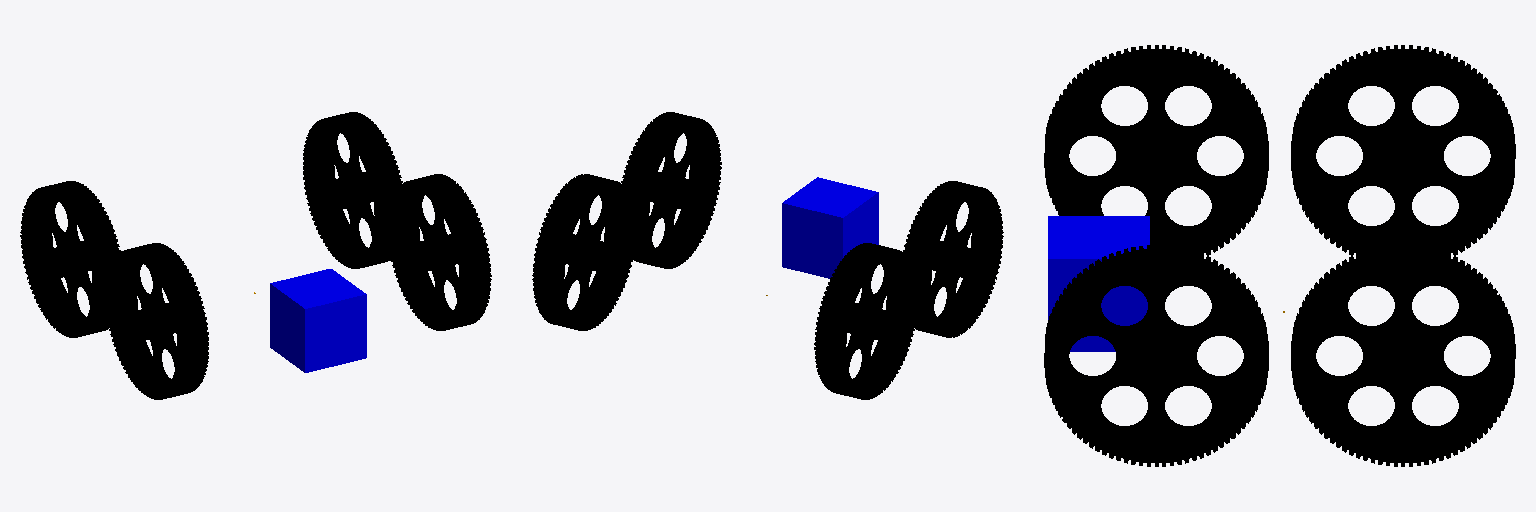
The robot description file, URDF, robot "Robot_Arm":
<?xml version="1.0" ?>
<!-- =================================================================================== -->
<!-- |    This document was autogenerated by xacro from 01-diff_drive.urdf.xacro       | -->
<!-- |    EDITING THIS FILE BY HAND IS NOT RECOMMENDED                                 | -->
<!-- =================================================================================== -->
<robot name="Robot_Arm" xmlns:xacro="http://www.ros.org/wiki/xacro">
  <!-- /////////////////////////////////////////////////////////////////-->
  <!-- Include materials-->
  <material name="Black">
    <color rgba="0.0 0.0 0.0 1.0"/>
  </material>
  <material name="Red">
    <color rgba="0.8 0.0 0.0 1.0"/>
  </material>
  <material name="White">
    <color rgba="1.0 1.0 1.0 1.0"/>
  </material>
  <material name="Blue">
    <color rgba="0.0 0.0 1.0 1.0"/>
  </material>
  <material name="Green">
    <color rgba="0.0 1.0 0.0 1.0"/>
  </material>
  <!-- /////////////////////////////////////////////////////-->
  <!-- constants -->
  <!-- chassis property -->
  <!-- wheel property -->
  <!-- /////////////////////////////////////////////////////-->
  <!-- ///////////////////////////////////////////////////-->
  <!-- ////////////////////////////////////////////////////-->
  <!--transmission block-->
  <!-- //////////////////////////////////////////////////// -->
  <link name="base_foot">
    <visual>
      <origin rpy="0 0 0" xyz="0 0 0"/>
      <geometry>
        <box size="0.001 0.001 0.001"/>
      </geometry>
    </visual>
  </link>
  <joint name="base" type="fixed">
    <parent link="base_foot"/>
    <child link="chassis"/>
    <origin rpy="0 0 0" xyz="0 0 0.015"/>
  </joint>
  <gazebo reference="base_foot">
    <turnGravityOff>false</turnGravityOff>
  </gazebo>
  <!-- ////////////////////////////////////////////////////////////-->
  <!-- chassis-->
  <link name="chassis">
    <visual>
      <origin rpy="-1.57 0 0" xyz="0 0 0"/>
      <geometry>
        <mesh filename="package://robot_arm/meshes/base assembly.dae"/>
      </geometry>
    </visual>
    <collision>
      <origin rpy="-1.57 0 0" xyz="0 0 0"/>
      <geometry>
        <mesh filename="package://robot_arm/meshes/base assembly.dae"/>
      </geometry>
    </collision>
    <inertial>
      <mass value="5.0"/>
      <inertia ixx="1.0" ixy="0.0" ixz="0.0" iyy="1.0" iyz="0.0" izz="1.0"/>
    </inertial>
  </link>
  <gazebo reference="chassis">
    <turnGravityOff>false</turnGravityOff>
  </gazebo>
  <!-- ///////////////////      Wheels      ///////////////////////   -->
  <link name="right_front_wheel">
    <visual>
      <origin rpy="0 1.57 0" xyz="0 0 0"/>
      <geometry>
        <cylinder length="0.022" radius="0.011"/>
      </geometry>
      <material name="Black"/>
    </visual>
    <collision>
      <origin rpy="0 1.57 0" xyz="0 0 0"/>
      <geometry>
        <cylinder length="0.022" radius="0.011"/>
      </geometry>
    </collision>
    <inertial>
      <mass value="0.2"/>
      <inertia ixx="2.48722222222e-05" ixy="0.0" ixz="0.0" iyy="2.48722222222e-05" iyz="0.0" izz="3.3611111111e-05"/>
    </inertial>
  </link>
  <link name="right_front_wheel1">
    <visual>
      <origin rpy="0  0 1.57" xyz="0 0 0"/>
      <geometry>
        <mesh filename="package://robot_arm/meshes/tyre11.dae"/>
      </geometry>
      <material name="Black"/>
    </visual>
    <collision>
      <origin rpy="0 0 1.57" xyz="0 0 0"/>
      <geometry>
        <mesh filename="package://robot_arm/meshes/tyre11.dae"/>
      </geometry>
    </collision>
    <inertial>
      <mass value="0.2"/>
      <inertia ixx="0.000159316666667" ixy="0.0" ixz="0.0" iyy="0.000159316666667" iyz="0.0" izz="0.0003025"/>
    </inertial>
  </link>
  <gazebo reference="right_front_wheel1">
    <material>Gazebo/Black</material>
    <turnGravityOff>false</turnGravityOff>
  </gazebo>
  <joint name="right_front_wheel_joint1" type="fixed">
    <parent link="right_front_wheel"/>
    <child link="right_front_wheel1"/>
    <origin rpy="0 0 0" xyz="0 0 0"/>
  </joint>
  <gazebo reference="right_front_wheel">
    <mu1 value="200.0"/>
    <mu2 value="100.0"/>
    <kp value="10000000.0"/>
    <kd value="1.0"/>
    <material>Gazebo/Black</material>
  </gazebo>
  <joint name="right_front_wheel_joint" type="continuous">
    <parent link="chassis"/>
    <child link="right_front_wheel"/>
    <origin rpy="0 0 0" xyz="0.115 0.058 0.015"/>
    <axis xyz="1 0 0"/>
    <limit effort="100" velocity="100"/>
    <dynamics damping="0.0" friction="0.0"/>
  </joint>
  <transmission name="right_front_wheel_trans">
    <type>transmission_interface/SimpleTransmission</type>
    <actuator name="right_front_wheel_motor">
      <hardwareInterface>EffortJointInterface</hardwareInterface>
      <mechanicalReduction>1</mechanicalReduction>
    </actuator>
    <joint name="right_front_wheel_joint">
      <hardwareInterface>VelocityJointInterface</hardwareInterface>
    </joint>
  </transmission>
  <link name="right_back_wheel">
    <visual>
      <origin rpy="0 1.57 0" xyz="0 0 0"/>
      <geometry>
        <cylinder length="0.022" radius="0.011"/>
      </geometry>
      <material name="Black"/>
    </visual>
    <collision>
      <origin rpy="0 1.57 0" xyz="0 0 0"/>
      <geometry>
        <cylinder length="0.022" radius="0.011"/>
      </geometry>
    </collision>
    <inertial>
      <mass value="0.2"/>
      <inertia ixx="2.48722222222e-05" ixy="0.0" ixz="0.0" iyy="2.48722222222e-05" iyz="0.0" izz="3.3611111111e-05"/>
    </inertial>
  </link>
  <link name="right_back_wheel1">
    <visual>
      <origin rpy="0  0 1.57" xyz="0 0 0"/>
      <geometry>
        <mesh filename="package://robot_arm/meshes/tyre11.dae"/>
      </geometry>
      <material name="Black"/>
    </visual>
    <collision>
      <origin rpy="0 0 1.57" xyz="0 0 0"/>
      <geometry>
        <mesh filename="package://robot_arm/meshes/tyre11.dae"/>
      </geometry>
    </collision>
    <inertial>
      <mass value="0.2"/>
      <inertia ixx="0.000159316666667" ixy="0.0" ixz="0.0" iyy="0.000159316666667" iyz="0.0" izz="0.0003025"/>
    </inertial>
  </link>
  <gazebo reference="right_back_wheel1">
    <material>Gazebo/Black</material>
    <turnGravityOff>false</turnGravityOff>
  </gazebo>
  <joint name="right_back_wheel_joint1" type="fixed">
    <parent link="right_back_wheel"/>
    <child link="right_back_wheel1"/>
    <origin rpy="0 0 0" xyz="0 0 0"/>
  </joint>
  <gazebo reference="right_back_wheel">
    <mu1 value="200.0"/>
    <mu2 value="100.0"/>
    <kp value="10000000.0"/>
    <kd value="1.0"/>
    <material>Gazebo/Black</material>
  </gazebo>
  <joint name="right_back_wheel_joint" type="continuous">
    <parent link="chassis"/>
    <child link="right_back_wheel"/>
    <origin rpy="0 0 0" xyz="0.115 -0.062 0.015"/>
    <axis xyz="1 0 0"/>
    <limit effort="100" velocity="100"/>
    <dynamics damping="0.0" friction="0.0"/>
  </joint>
  <transmission name="right_back_wheel_trans">
    <type>transmission_interface/SimpleTransmission</type>
    <actuator name="right_back_wheel_motor">
      <hardwareInterface>EffortJointInterface</hardwareInterface>
      <mechanicalReduction>1</mechanicalReduction>
    </actuator>
    <joint name="right_back_wheel_joint">
      <hardwareInterface>VelocityJointInterface</hardwareInterface>
    </joint>
  </transmission>
  <link name="left_front_wheel">
    <visual>
      <origin rpy="0 1.57 0" xyz="0 0 0"/>
      <geometry>
        <cylinder length="0.022" radius="0.011"/>
      </geometry>
      <material name="Black"/>
    </visual>
    <collision>
      <origin rpy="0 1.57 0" xyz="0 0 0"/>
      <geometry>
        <cylinder length="0.022" radius="0.011"/>
      </geometry>
    </collision>
    <inertial>
      <mass value="0.2"/>
      <inertia ixx="2.48722222222e-05" ixy="0.0" ixz="0.0" iyy="2.48722222222e-05" iyz="0.0" izz="3.3611111111e-05"/>
    </inertial>
  </link>
  <link name="left_front_wheel1">
    <visual>
      <origin rpy="0  0 1.57" xyz="0 0 0"/>
      <geometry>
        <mesh filename="package://robot_arm/meshes/tyre11.dae"/>
      </geometry>
      <material name="Black"/>
    </visual>
    <collision>
      <origin rpy="0 0 1.57" xyz="0 0 0"/>
      <geometry>
        <mesh filename="package://robot_arm/meshes/tyre11.dae"/>
      </geometry>
    </collision>
    <inertial>
      <mass value="0.2"/>
      <inertia ixx="0.000159316666667" ixy="0.0" ixz="0.0" iyy="0.000159316666667" iyz="0.0" izz="0.0003025"/>
    </inertial>
  </link>
  <gazebo reference="left_front_wheel1">
    <material>Gazebo/Black</material>
    <turnGravityOff>false</turnGravityOff>
  </gazebo>
  <joint name="left_front_wheel_joint1" type="fixed">
    <parent link="left_front_wheel"/>
    <child link="left_front_wheel1"/>
    <origin rpy="0 0 0" xyz="0 0 0"/>
  </joint>
  <gazebo reference="left_front_wheel">
    <mu1 value="200.0"/>
    <mu2 value="100.0"/>
    <kp value="10000000.0"/>
    <kd value="1.0"/>
    <material>Gazebo/Black</material>
  </gazebo>
  <joint name="left_front_wheel_joint" type="continuous">
    <parent link="chassis"/>
    <child link="left_front_wheel"/>
    <origin rpy="0 0 0" xyz="-0.115 0.058 0.015"/>
    <axis xyz="1 0 0"/>
    <limit effort="100" velocity="100"/>
    <dynamics damping="0.0" friction="0.0"/>
  </joint>
  <transmission name="left_front_wheel_trans">
    <type>transmission_interface/SimpleTransmission</type>
    <actuator name="left_front_wheel_motor">
      <hardwareInterface>EffortJointInterface</hardwareInterface>
      <mechanicalReduction>1</mechanicalReduction>
    </actuator>
    <joint name="left_front_wheel_joint">
      <hardwareInterface>VelocityJointInterface</hardwareInterface>
    </joint>
  </transmission>
  <link name="left_back_wheel">
    <visual>
      <origin rpy="0 1.57 0" xyz="0 0 0"/>
      <geometry>
        <cylinder length="0.022" radius="0.011"/>
      </geometry>
      <material name="Black"/>
    </visual>
    <collision>
      <origin rpy="0 1.57 0" xyz="0 0 0"/>
      <geometry>
        <cylinder length="0.022" radius="0.011"/>
      </geometry>
    </collision>
    <inertial>
      <mass value="0.2"/>
      <inertia ixx="2.48722222222e-05" ixy="0.0" ixz="0.0" iyy="2.48722222222e-05" iyz="0.0" izz="3.3611111111e-05"/>
    </inertial>
  </link>
  <link name="left_back_wheel1">
    <visual>
      <origin rpy="0  0 1.57" xyz="0 0 0"/>
      <geometry>
        <mesh filename="package://robot_arm/meshes/tyre11.dae"/>
      </geometry>
      <material name="Black"/>
    </visual>
    <collision>
      <origin rpy="0 0 1.57" xyz="0 0 0"/>
      <geometry>
        <mesh filename="package://robot_arm/meshes/tyre11.dae"/>
      </geometry>
    </collision>
    <inertial>
      <mass value="0.2"/>
      <inertia ixx="0.000159316666667" ixy="0.0" ixz="0.0" iyy="0.000159316666667" iyz="0.0" izz="0.0003025"/>
    </inertial>
  </link>
  <gazebo reference="left_back_wheel1">
    <material>Gazebo/Black</material>
    <turnGravityOff>false</turnGravityOff>
  </gazebo>
  <joint name="left_back_wheel_joint1" type="fixed">
    <parent link="left_back_wheel"/>
    <child link="left_back_wheel1"/>
    <origin rpy="0 0 0" xyz="0 0 0"/>
  </joint>
  <gazebo reference="left_back_wheel">
    <mu1 value="200.0"/>
    <mu2 value="100.0"/>
    <kp value="10000000.0"/>
    <kd value="1.0"/>
    <material>Gazebo/Black</material>
  </gazebo>
  <joint name="left_back_wheel_joint" type="continuous">
    <parent link="chassis"/>
    <child link="left_back_wheel"/>
    <origin rpy="0 0 0" xyz="-0.115 -0.062 0.015"/>
    <axis xyz="1 0 0"/>
    <limit effort="100" velocity="100"/>
    <dynamics damping="0.0" friction="0.0"/>
  </joint>
  <transmission name="left_back_wheel_trans">
    <type>transmission_interface/SimpleTransmission</type>
    <actuator name="left_back_wheel_motor">
      <hardwareInterface>EffortJointInterface</hardwareInterface>
      <mechanicalReduction>1</mechanicalReduction>
    </actuator>
    <joint name="left_back_wheel_joint">
      <hardwareInterface>VelocityJointInterface</hardwareInterface>
    </joint>
  </transmission>
  <!--///////////////////////////////////////////////////////////////// -->
  <link name="hokuyo_sensor">
    <visual>
      <origin rpy="0 0 0" xyz="0 0 0"/>
      <geometry>
        <box size="0.05 0.05 0.05"/>
      </geometry>
      <material name="Blue"/>
    </visual>
  </link>
  <joint name="hokuyo_joint" type="fixed">
    <origin rpy="0 0 0" xyz="0 -0.09 0"/>
    <parent link="chassis"/>
    <child link="hokuyo_sensor"/>
  </joint>
  <gazebo reference="hokuyo_sensor">
    <material>Gazebo/Blue</material>
    <turnGravityOff>false</turnGravityOff>
    <sensor name="chassis_hokuyo_sensor" type="ray">
      <pose>0.025 0 0 0 0 0</pose>
      <visualize>false</visualize>
      <update_rate>40</update_rate>
      <ray>
        <scan>
          <horizontal>
            <samples>720</samples>
            <resolution>1</resolution>
            <min_angle>-1.57</min_angle>
            <max_angle>1.57</max_angle>
          </horizontal>
        </scan>
        <range>
          <min>0.10</min>
          <max>10.0</max>
          <resolution>0.001</resolution>
        </range>
      </ray>
      <plugin filename="libgazebo_ros_laser.so" name="gazebo_ros_head_hokuyo_controller">
        <topicName>/scan</topicName>
        <frameName>hokuyo_sensor</frameName>
      </plugin>
    </sensor>
  </gazebo>
  <!-- //////////////////////////////////////////////////////////////// -->
  <!-- ros_control plugin-->
  <gazebo>
    <plugin filename="libgazebo_ros_control.so" name="gazebo_ros_control">
      <robotNamespace>/</robotNamespace>
    </plugin>
  </gazebo>
</robot>

--- What the picture shows (computed from the rendered views, not written in the file) ---
3 views of the same robot in one strip: view 1: azimuth 30°, elevation 25°; view 2: azimuth 150°, elevation 25°; view 3: azimuth 270°, elevation 25° (orthographic).
Robot: Robot_Arm — 11 links, 10 joints (4 continuous, 6 fixed); root link base_foot; default pose: all joints at 0.
Visible links, largest first — view 1: right_back_wheel1, left_back_wheel1, right_front_wheel1, left_front_wheel1, hokuyo_sensor; view 2: left_front_wheel1, right_front_wheel1, left_back_wheel1, right_back_wheel1, hokuyo_sensor; view 3: right_back_wheel1, right_front_wheel1, left_front_wheel1, left_back_wheel1, hokuyo_sensor, right_front_wheel, right_back_wheel, left_front_wheel, left_back_wheel.
Boxes of the visible links, left/top/right/bottom form: right_back_wheel1: left=387, top=174, right=491, bottom=330; left_back_wheel1: left=105, top=243, right=208, bottom=399; right_front_wheel1: left=303, top=112, right=402, bottom=268; left_front_wheel1: left=20, top=181, right=120, bottom=337; hokuyo_sensor: left=270, top=269, right=366, bottom=372; left_front_wheel1: left=814, top=243, right=918, bottom=399; right_front_wheel1: left=532, top=174, right=636, bottom=330; left_back_wheel1: left=903, top=181, right=1003, bottom=337; right_back_wheel1: left=621, top=112, right=721, bottom=268; hokuyo_sensor: left=782, top=177, right=878, bottom=278; right_back_wheel1: left=1044, top=245, right=1268, bottom=466; right_front_wheel1: left=1291, top=245, right=1515, bottom=466; left_front_wheel1: left=1291, top=45, right=1515, bottom=255; left_back_wheel1: left=1044, top=45, right=1268, bottom=255; hokuyo_sensor: left=1048, top=216, right=1149, bottom=351; right_front_wheel: left=1381, top=337, right=1425, bottom=385; right_back_wheel: left=1134, top=337, right=1178, bottom=385; left_front_wheel: left=1381, top=137, right=1425, bottom=185; left_back_wheel: left=1134, top=137, right=1178, bottom=185.
Bounding box of the posed robot: 0.255 × 0.229 × 0.109 m (x, y, z).
4 mesh visuals loaded from 2 distinct referenced files (1 Collada DAE); not drawn: 1 (reference not matched to a file when rendering).
